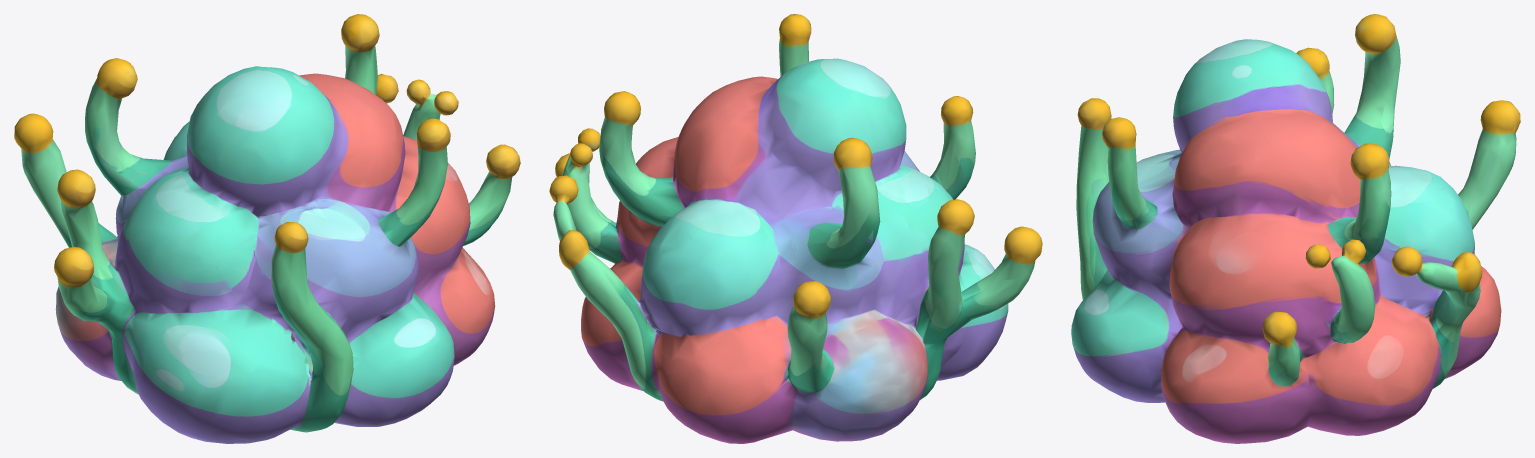
File: static.glb
The picture shows the model from 3 angles, left to right: view 1: azimuth 30°, elevation 25°; view 2: azimuth 150°, elevation 25°; view 3: azimuth 270°, elevation 25°; orthographic projection. The views are drawn at different scales.
Parts seen in each view (by area): view 1: Mesh_0; view 2: Mesh_0; view 3: Mesh_0.
Part boxes in pixels (x1=…): Mesh_0: x1=14, y1=14, x2=520, y2=443; Mesh_0: x1=549, y1=14, x2=1042, y2=443; Mesh_0: x1=1071, y1=14, x2=1520, y2=443.
Bounding box in the file's own units: 1.9 × 1.22 × 1.55.
1 material, 1 textured.
